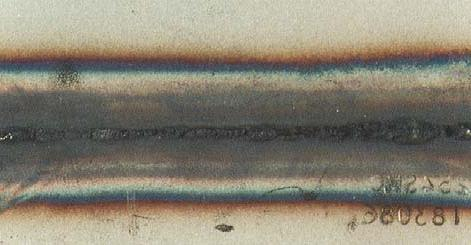soldas: (0, 41, 471, 213)
